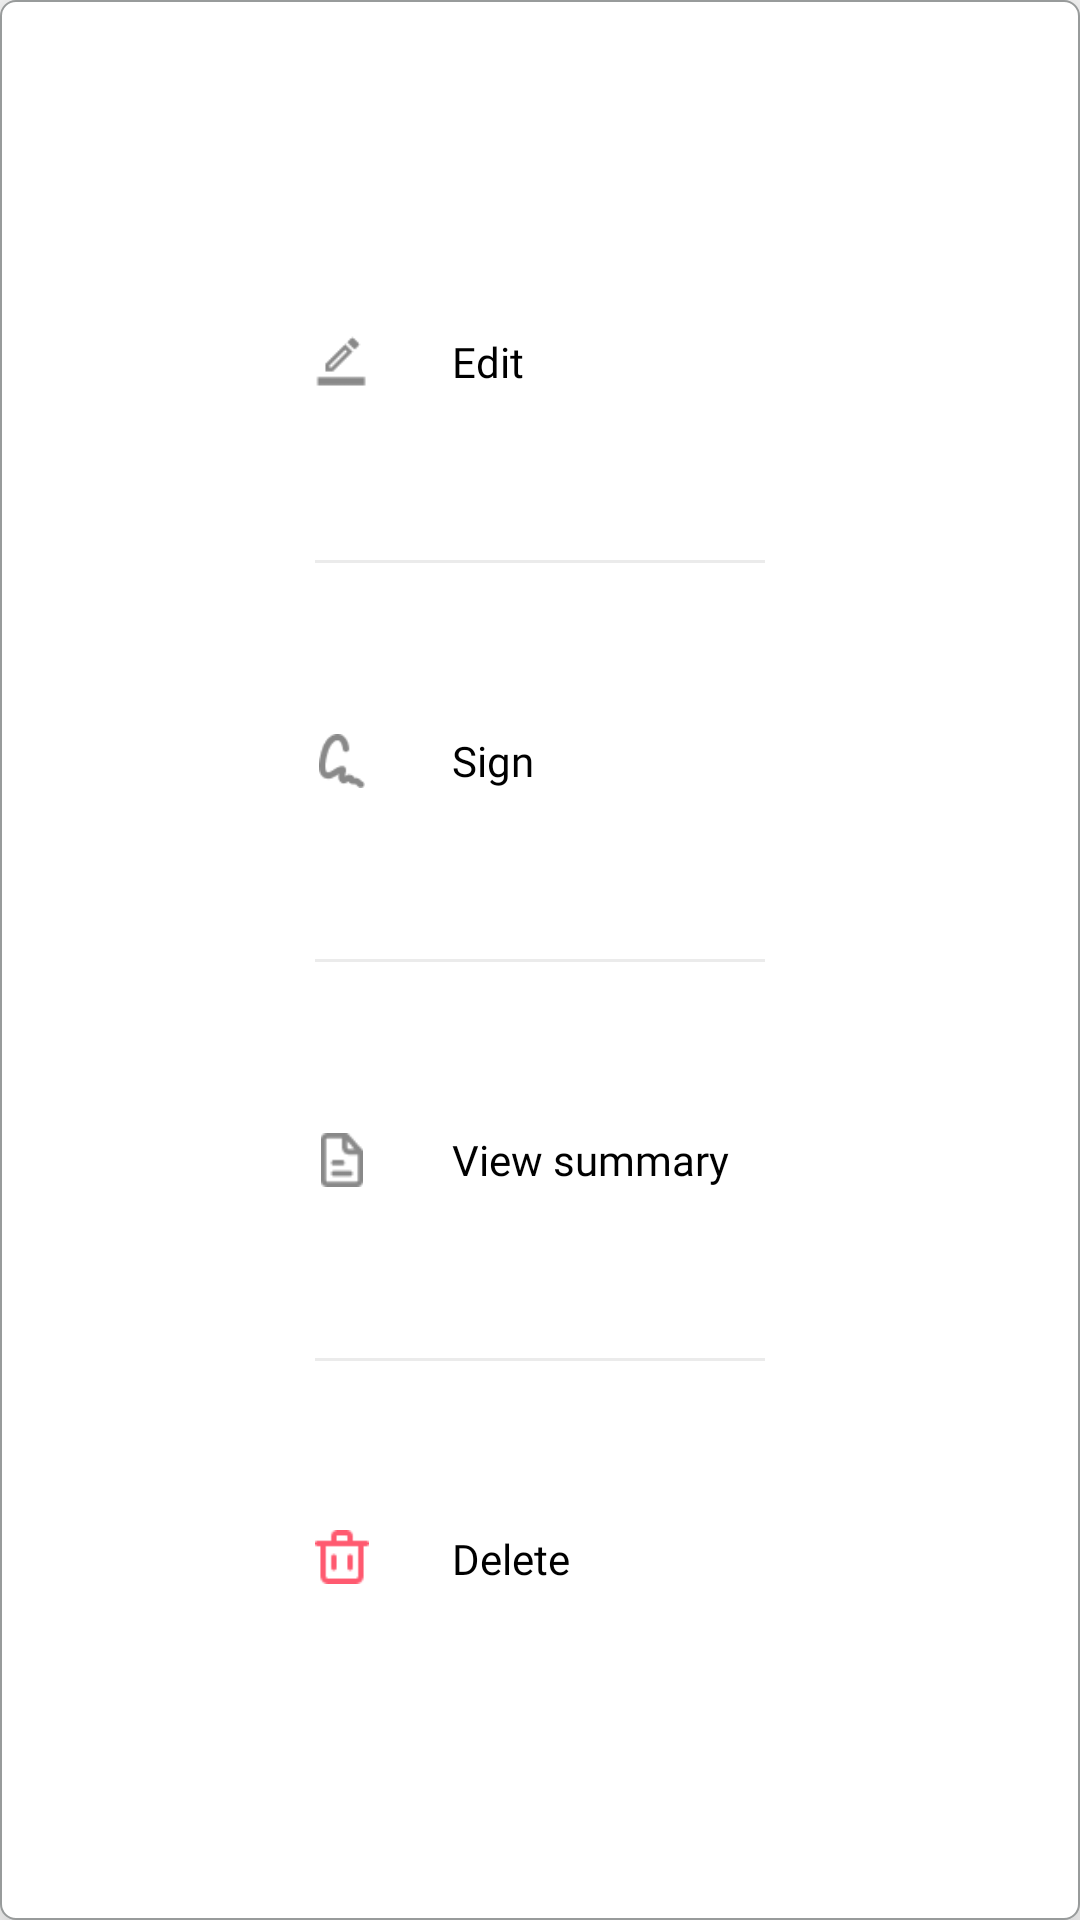

Named icons in this screenshot (1080×1920) and their centers, point (x, y):
sumary: point (342, 1160)
trash: point (342, 1557)
